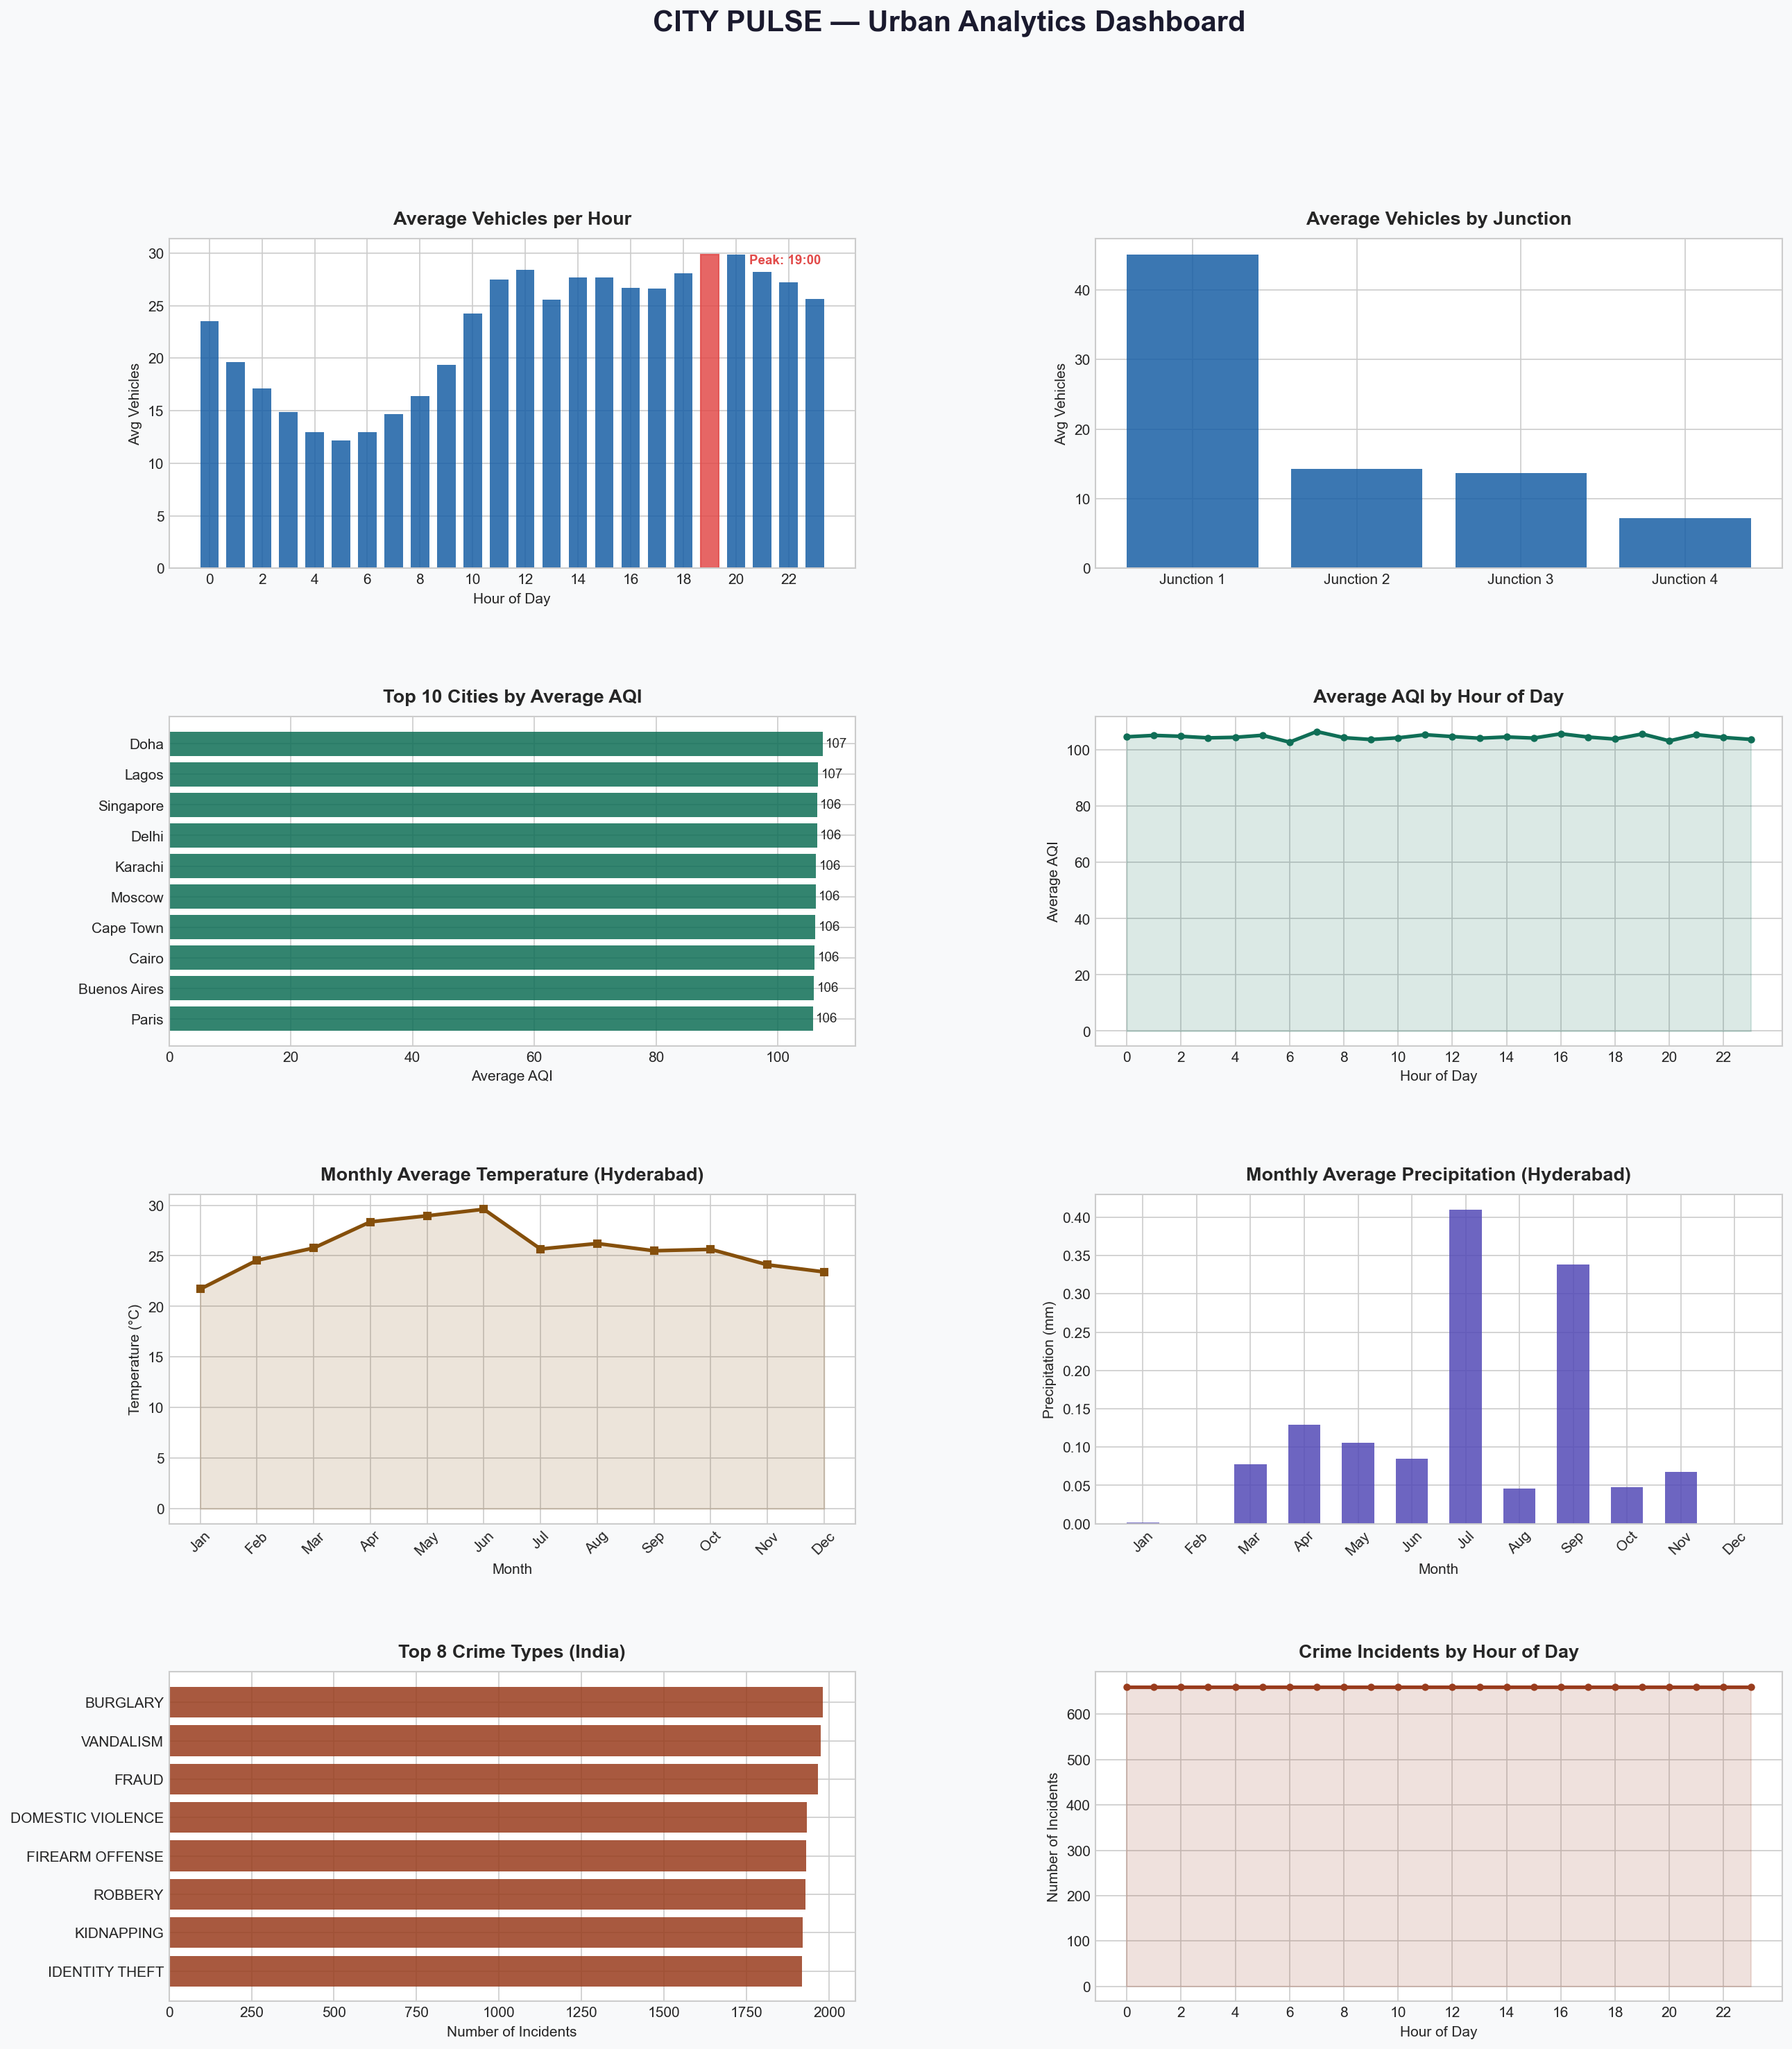

The dashboard page shown, as its layout file describes it:
{"tool":"powerbi","page":{"name":"city_pulse","canvas":[1280,720],"ordinal":0},"visuals":[{"type":"clusteredBarChart","title":"Vehicles by Hour of Day","fields":{"Category":["public traffic.Vehicles"],"Y":["CountNonNull(public traffic.Hour)"]},"box":[328,197.6,311.5,252.5],"z":0},{"type":"clusteredColumnChart","fields":{"Category":["public traffic.Junction"],"Y":["Avg(public traffic.Vehicles)"]},"box":[642.2,197.6,311.5,252.5],"z":1},{"type":"clusteredBarChart","title":"Top Cities by AQI","fields":{"Category":["public air_quality.city"],"Y":["Avg(public air_quality.aqi)"]},"box":[957.8,197.6,310.1,252.5],"z":2},{"type":"lineChart","title":"Monthly Temperature — Hyderabad","fields":{"Category":["public weather.time.Variation.Date Hierarchy.Month"],"Y":["Avg(public weather.temperature_2m (°C))"]},"box":[483,459.7,312.9,260.7],"z":3},{"type":"clusteredBarChart","title":"Crime by Type","fields":{"Category":["public crime.Crime Description"],"Y":["CountNonNull(public crime.Report Number)"]},"box":[806.9,459.7,311.5,260.7],"z":4},{"type":"textbox","box":[13.7,5.5,1254.2,63.1],"z":5},{"type":"cardVisual","fields":{"Data":["Count(public traffic.Vehicles)"]},"box":[957.8,78.2,312.9,109.8],"z":6},{"type":"cardVisual","fields":{"Data":["Count(public crime.Report Number)"]},"box":[643.6,78.2,311.5,109.8],"z":7},{"type":"cardVisual","fields":{"Data":["Avg(public air_quality.aqi)"]},"box":[13.7,78.2,312.9,109.8],"z":8},{"type":"cardVisual","fields":{"Data":["Avg(public weather.temperature_2m (°C))"]},"box":[328,78.2,312.9,109.8],"z":9},{"type":"listSlicer","title":"Filter by City","fields":{"Values":["public air_quality.city"]},"box":[13.7,197.6,312.9,252.5],"z":10},{"type":"listSlicer","title":"Filter by Year","fields":{"Values":["public traffic.DateTime.Variation.Date Hierarchy.Year","public traffic.DateTime.Variation.Date Hierarchy.Month","public traffic.DateTime.Variation.Date Hierarchy.Day"]},"box":[13.7,459.7,312.9,260.7],"z":11},{"type":"shape","box":[13.7,0,1254.2,148.2],"z":12}]}

Visuals, with their boxes on the page's 1280x720 design canvas (x1, y1, x2, y2). These are canvas units, not pixel positions in the 1792x2049 screenshot, which may show the page scaled, cropped or inside an application window:
"Vehicles by Hour of Day" clusteredBarChart: box(328, 198, 640, 450)
clusteredColumnChart - public traffic.Junction x Avg(public traffic.Vehicles): box(642, 198, 954, 450)
"Top Cities by AQI" clusteredBarChart: box(958, 198, 1268, 450)
"Monthly Temperature — Hyderabad" lineChart: box(483, 460, 796, 720)
"Crime by Type" clusteredBarChart: box(807, 460, 1118, 720)
textbox: box(14, 6, 1268, 69)
cardVisual - Count(public traffic.Vehicles): box(958, 78, 1271, 188)
cardVisual - Count(public crime.Report Number): box(644, 78, 955, 188)
cardVisual - Avg(public air_quality.aqi): box(14, 78, 327, 188)
cardVisual - Avg(public weather.temperature_2m (°C)): box(328, 78, 641, 188)
"Filter by City" listSlicer: box(14, 198, 327, 450)
"Filter by Year" listSlicer: box(14, 460, 327, 720)
shape: box(14, 0, 1268, 148)
